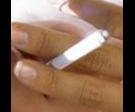Cigarette: (48, 29, 110, 69)
